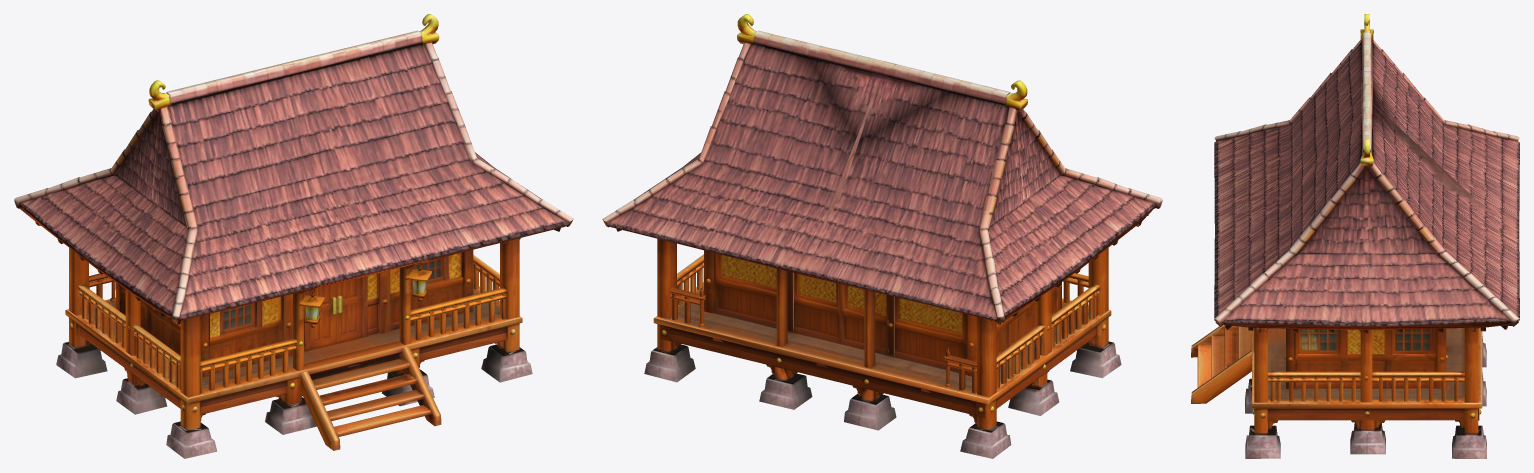
The model's file is rumah.glb.
3 views of the same model, side by side, from view 1: azimuth 30°, elevation 25°; view 2: azimuth 150°, elevation 25°; view 3: azimuth 270°, elevation 25° (orthographic). The views are drawn at different scales.
Visible parts, largest first — view 1: tripo_node_3deb467c-2526-4da8-a4d4-716fd444aa76; view 2: tripo_node_3deb467c-2526-4da8-a4d4-716fd444aa76; view 3: tripo_node_3deb467c-2526-4da8-a4d4-716fd444aa76.
Part boxes in pixels (bbox=[...]): tripo_node_3deb467c-2526-4da8-a4d4-716fd444aa76: bbox=[14, 14, 573, 458]; tripo_node_3deb467c-2526-4da8-a4d4-716fd444aa76: bbox=[602, 14, 1162, 458]; tripo_node_3deb467c-2526-4da8-a4d4-716fd444aa76: bbox=[1191, 14, 1519, 458].
Bounding box in the file's own units: 0.9995 × 0.7651 × 0.7534.
Materials: 1 (1 with a texture image).
